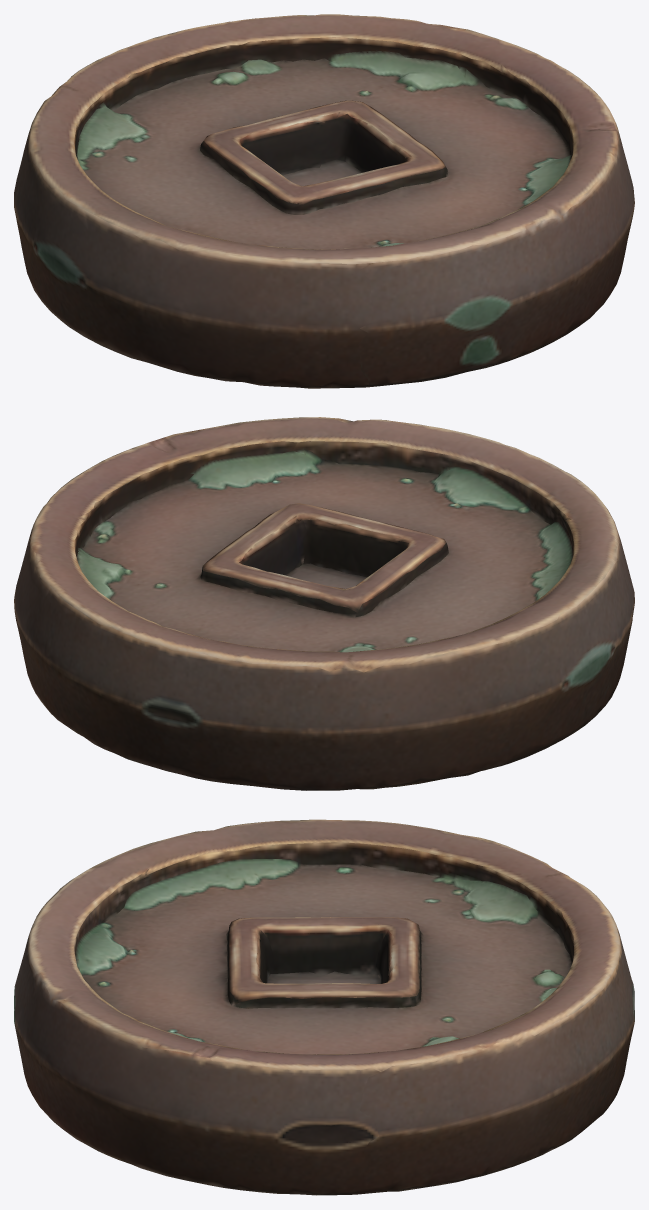
The model's file is DDP_유물_엽전.glb.
3 renders of one model, top to bottom at view 1: azimuth 30°, elevation 25°; view 2: azimuth 150°, elevation 25°; view 3: azimuth 270°, elevation 25°, orthographic.
Parts seen in each view (by area): view 1: texture_mapping; view 2: texture_mapping; view 3: texture_mapping.
Boxes of the visible parts, x1,y1,x2,y2 form: texture_mapping: (14, 14, 634, 388); texture_mapping: (14, 417, 634, 790); texture_mapping: (14, 819, 634, 1195).
Size of the model in its own units: 0.9994 by 0.229 by 0.9994.
Materials: 1 (1 with a texture image).
